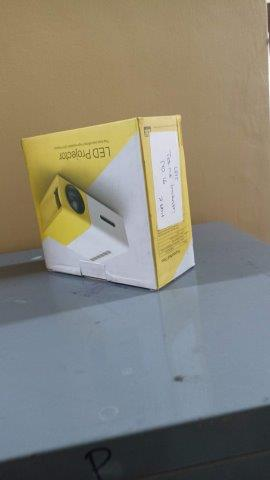kardus: (23, 115, 195, 288)
